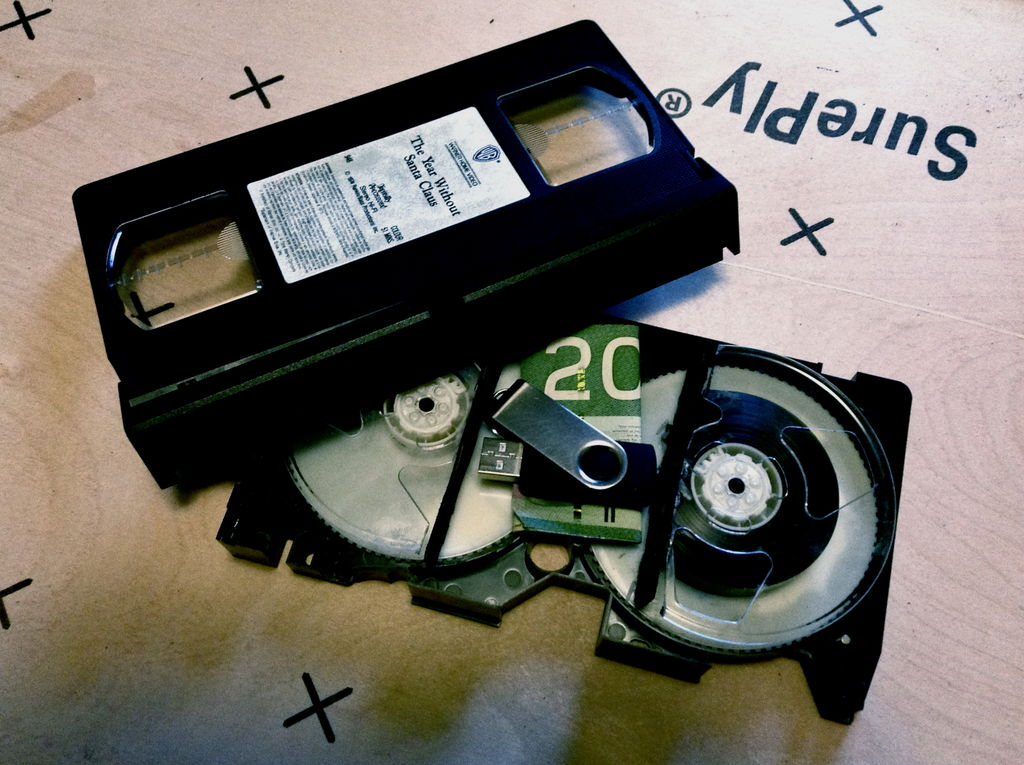Nonrec_Other: (41, 10, 931, 722)
